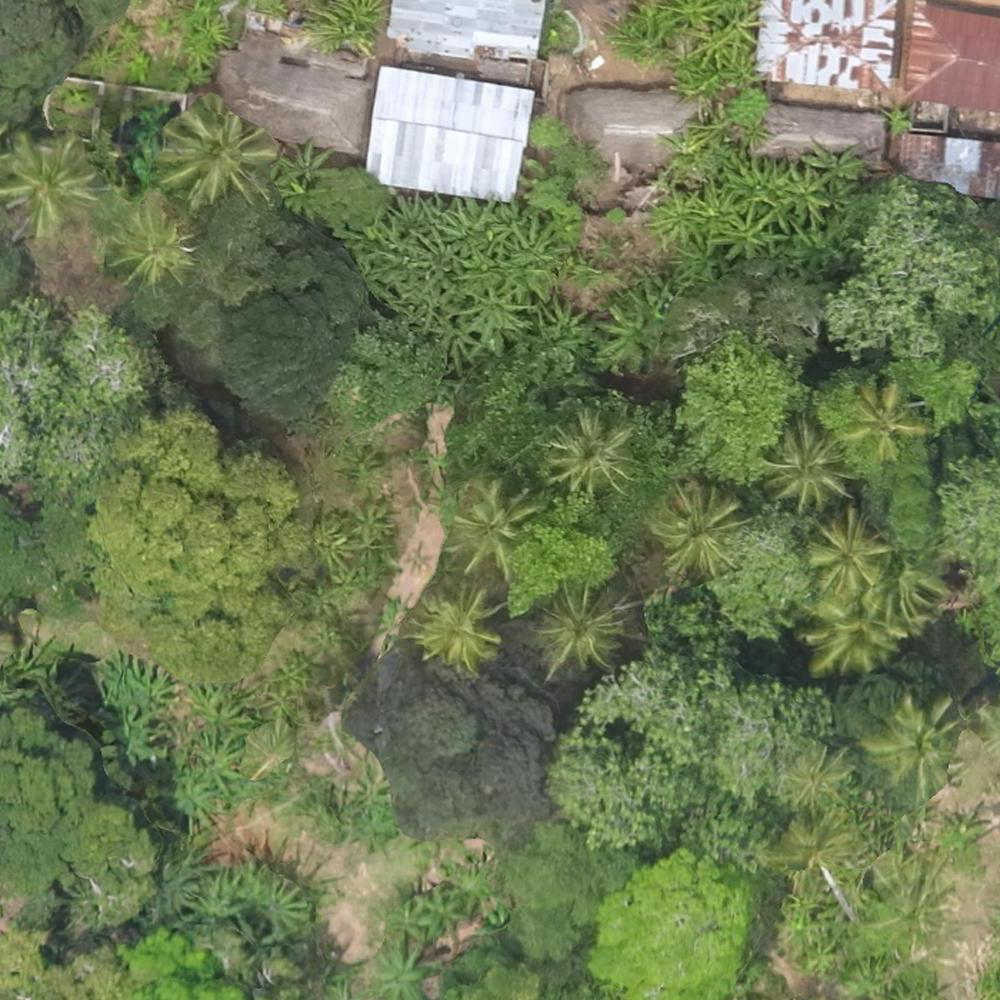Palm: (161, 104, 265, 200), (2, 129, 94, 229), (654, 477, 744, 578), (761, 416, 857, 509), (446, 478, 537, 567), (543, 408, 634, 496), (532, 580, 622, 668), (868, 694, 954, 786), (419, 588, 508, 671), (804, 506, 884, 594), (108, 204, 192, 283), (846, 383, 928, 459)
